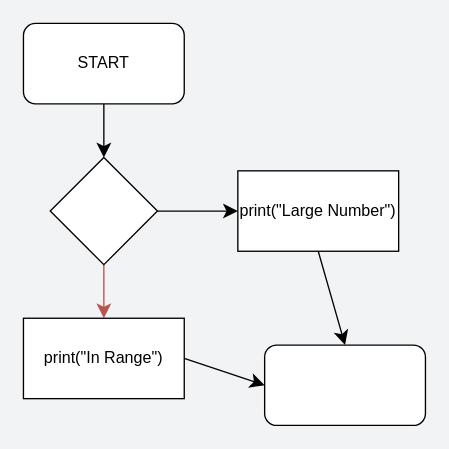
The diagram is 449 pixels wide and 449 high, and some of its shapes have lost their labels. Here are the shapes that lost their labels. From the top down, the centre of each, then its label:
At point 103,210: "x > 10".
At point 344,384: "END".
